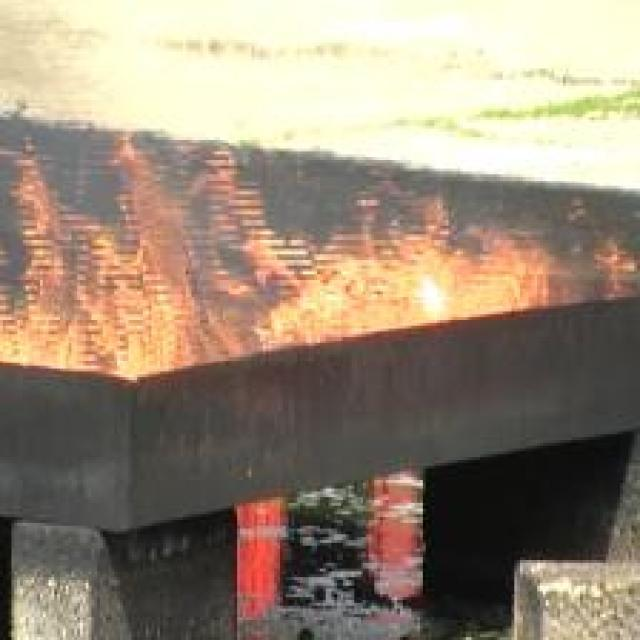Fire: (0, 136, 640, 378)
